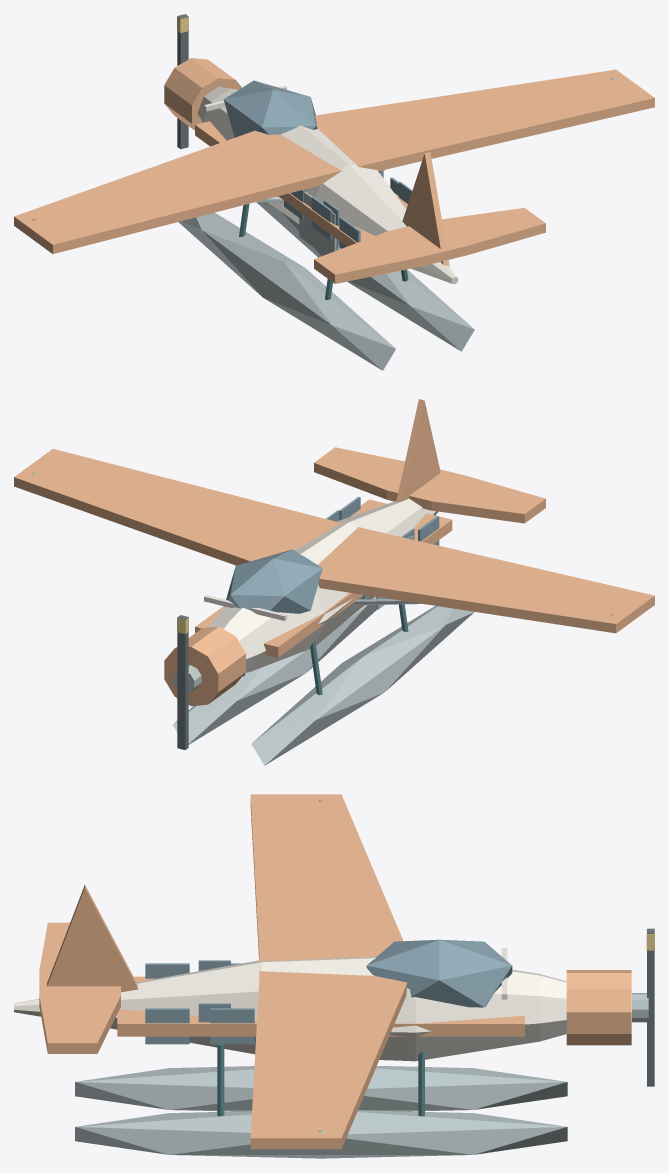
The model's file is tour_floatplane.glb.
3 renders of one model, top to bottom at view 1: azimuth 30°, elevation 25°; view 2: azimuth 150°, elevation 25°; view 3: azimuth 270°, elevation 25°, orthographic. The views are drawn at different scales.
Visible parts, largest first — view 1: tour_floatplane__main_wings, tour_floatplane__pontoon, tour_floatplane__tailplane, tour_floatplane__faceted_fuselage, tour_floatplane__pontoon.001, tour_floatplane__cockpit_canopy, tour_floatplane__engine_nose, tour_floatplane__vertical_tail, tour_floatplane__signature_stripe, tour_floatplane__cargo_door, tour_floatplane__Propeller_blades; view 2: tour_floatplane__main_wings, tour_floatplane__pontoon, tour_floatplane__faceted_fuselage, tour_floatplane__tailplane, tour_floatplane__pontoon.001, tour_floatplane__cockpit_canopy, tour_floatplane__engine_nose, tour_floatplane__signature_stripe, tour_floatplane__vertical_tail, tour_floatplane__Propeller_blades; view 3: tour_floatplane__main_wings, tour_floatplane__faceted_fuselage, tour_floatplane__pontoon.001, tour_floatplane__pontoon, tour_floatplane__cockpit_canopy, tour_floatplane__tailplane, tour_floatplane__engine_nose, tour_floatplane__vertical_tail, tour_floatplane__signature_stripe, tour_floatplane__panorama_window.001, tour_floatplane__panorama_window.003, tour_floatplane__Propeller_blades (+2 smaller).
Boxes of the visible parts, x1,y1,x2,y2 form: tour_floatplane__main_wings: [14, 69, 654, 253]; tour_floatplane__pontoon: [178, 212, 395, 370]; tour_floatplane__tailplane: [314, 208, 545, 283]; tour_floatplane__faceted_fuselage: [197, 86, 458, 284]; tour_floatplane__pontoon.001: [257, 202, 474, 351]; tour_floatplane__cockpit_canopy: [223, 80, 317, 137]; tour_floatplane__engine_nose: [164, 58, 241, 130]; tour_floatplane__vertical_tail: [402, 152, 449, 266]; tour_floatplane__signature_stripe: [195, 121, 407, 246]; tour_floatplane__cargo_door: [299, 191, 336, 254]; tour_floatplane__Propeller_blades: [177, 14, 188, 149]; tour_floatplane__main_wings: [14, 449, 654, 633]; tour_floatplane__pontoon: [251, 606, 474, 765]; tour_floatplane__faceted_fuselage: [209, 498, 437, 672]; tour_floatplane__tailplane: [314, 447, 545, 523]; tour_floatplane__pontoon.001: [172, 596, 376, 744]; tour_floatplane__cockpit_canopy: [224, 549, 322, 613]; tour_floatplane__engine_nose: [164, 626, 245, 706]; tour_floatplane__signature_stripe: [195, 499, 452, 657]; tour_floatplane__vertical_tail: [396, 399, 440, 502]; tour_floatplane__Propeller_blades: [177, 615, 188, 750]; tour_floatplane__main_wings: [250, 794, 407, 1149]; tour_floatplane__faceted_fuselage: [14, 956, 566, 1061]; tour_floatplane__pontoon.001: [75, 1110, 567, 1158]; tour_floatplane__pontoon: [75, 1066, 567, 1111]; tour_floatplane__cockpit_canopy: [366, 939, 512, 1007]; tour_floatplane__tailplane: [39, 922, 120, 1053]; tour_floatplane__engine_nose: [566, 970, 631, 1045]; tour_floatplane__vertical_tail: [47, 885, 138, 992]; tour_floatplane__signature_stripe: [117, 976, 524, 1036]; tour_floatplane__panorama_window.001: [145, 1008, 189, 1044]; tour_floatplane__panorama_window.003: [210, 1008, 254, 1044]; tour_floatplane__Propeller_blades: [647, 928, 654, 1086].
Size of the model in its own units: 13.5 by 4.6 by 10.63.
